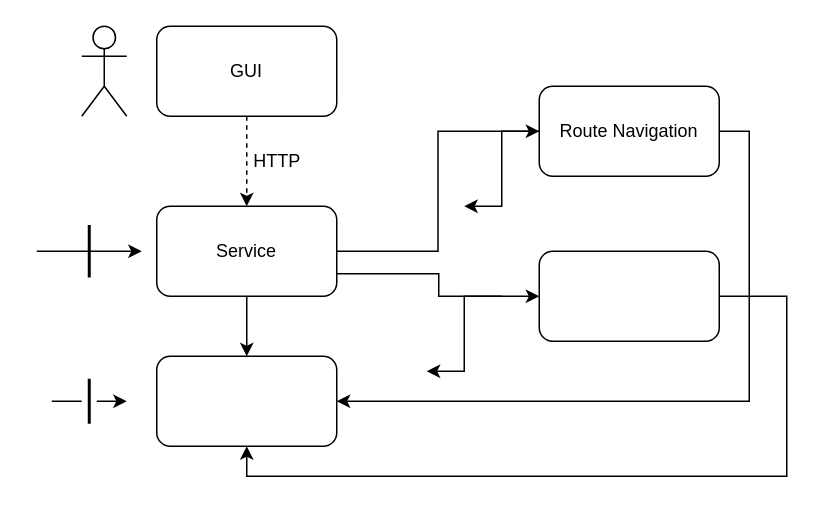
Image size: 825x515. Some labels were removed from this diagram. The box of each missing label's shape, as (x1, y1, x2, y2) in pixels:
Data: (155, 355, 337, 446)
Restaurant Info: (538, 250, 719, 341)
